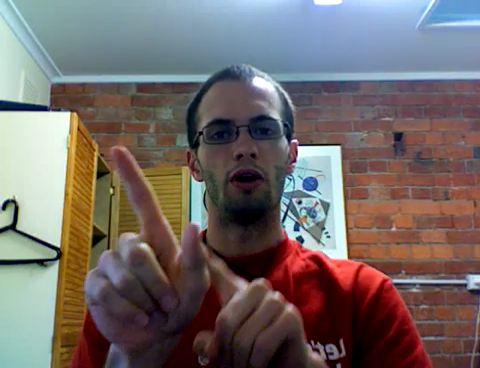Y: (79, 141, 307, 368)
